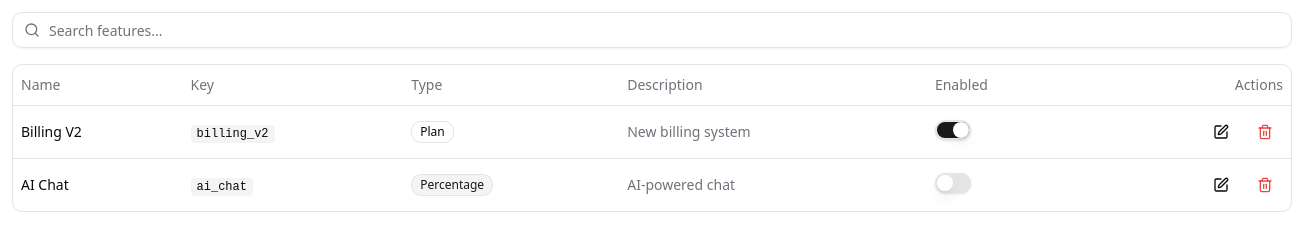
Test: FeaturesList › shows empty state when search has no results
This screenshot has width=1304, height=229.
Type "nonexistent" into the field with placeholder "Search features..." at [652, 30], box [12, 12, 1292, 48]
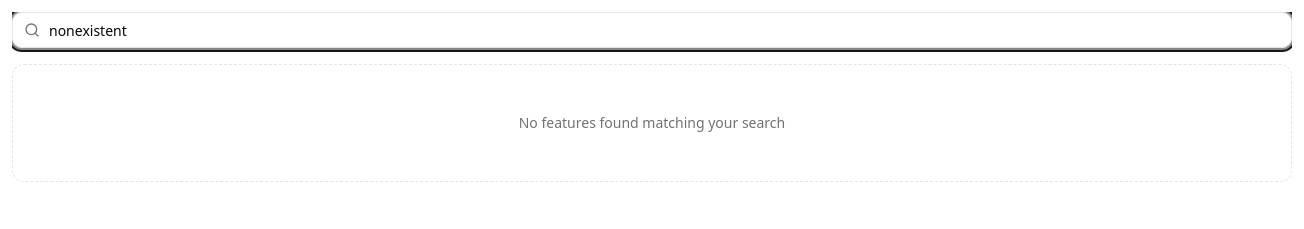
Result: the text "No features found matching your search" is shown at [519, 113, 785, 133]
